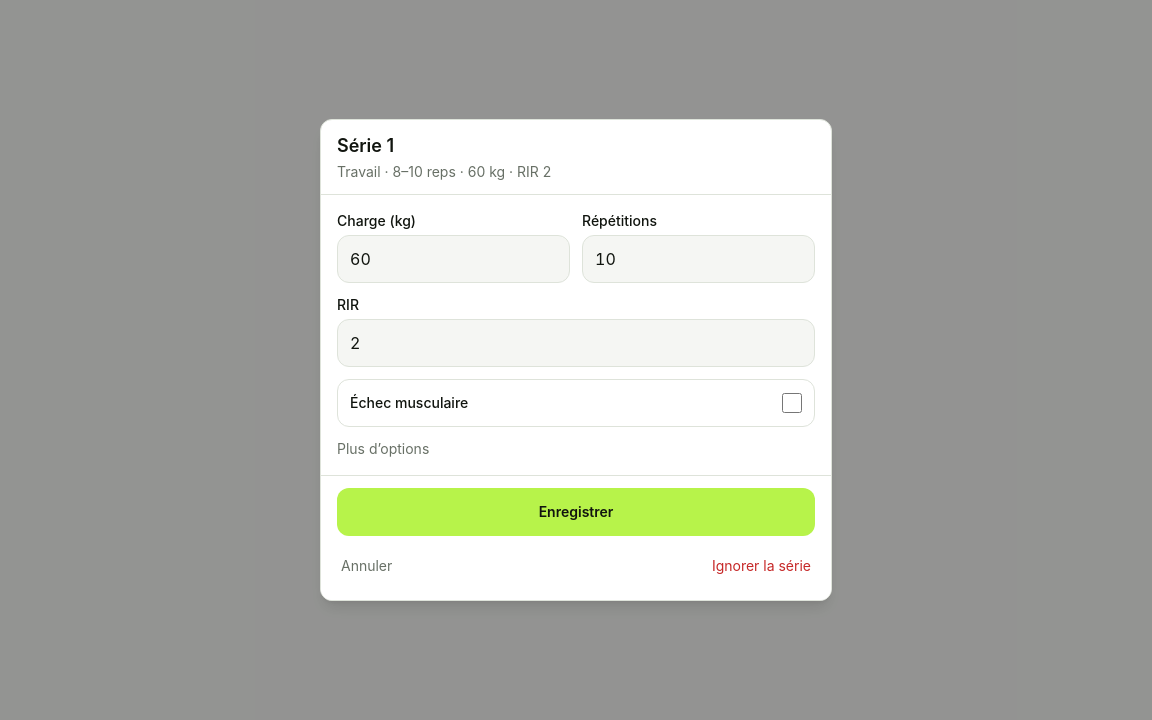
Scenario: WorkoutSetFormDialog › conserve les valeurs après une erreur API
Replace the text in the number field labelled "Répétitions" with "7" at point(698, 259), box [582,235,815,283]
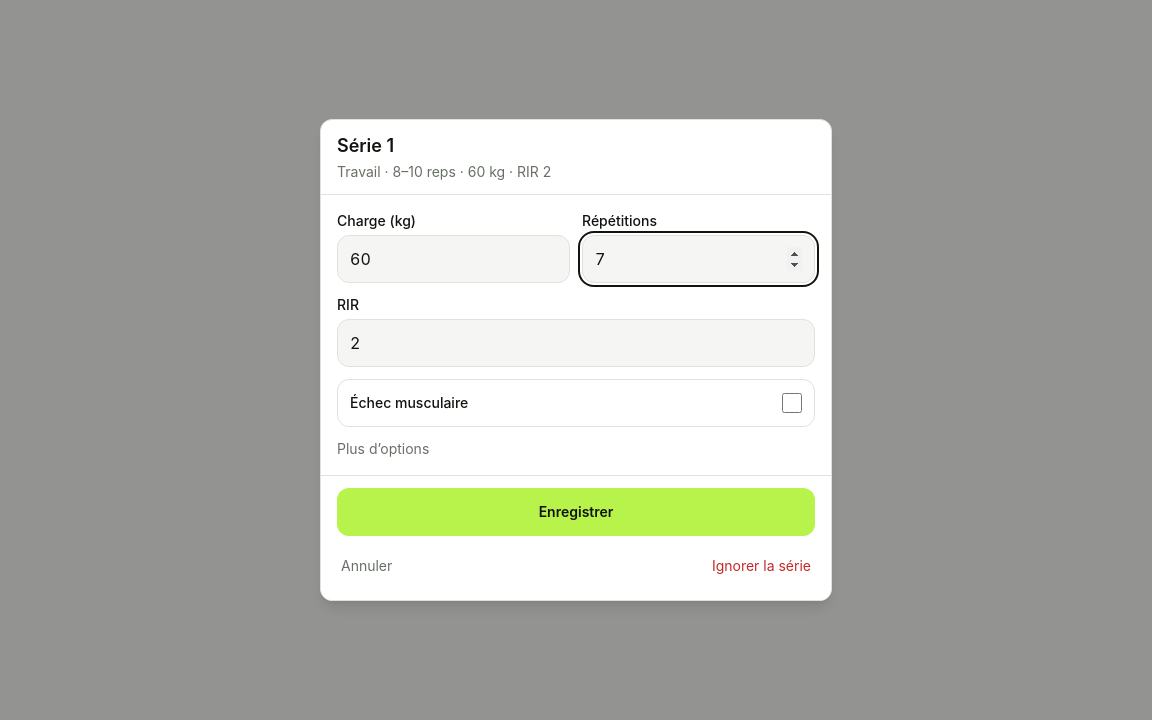
Click the button "Enregistrer".
click(576, 512)  # box [337,488,815,536]
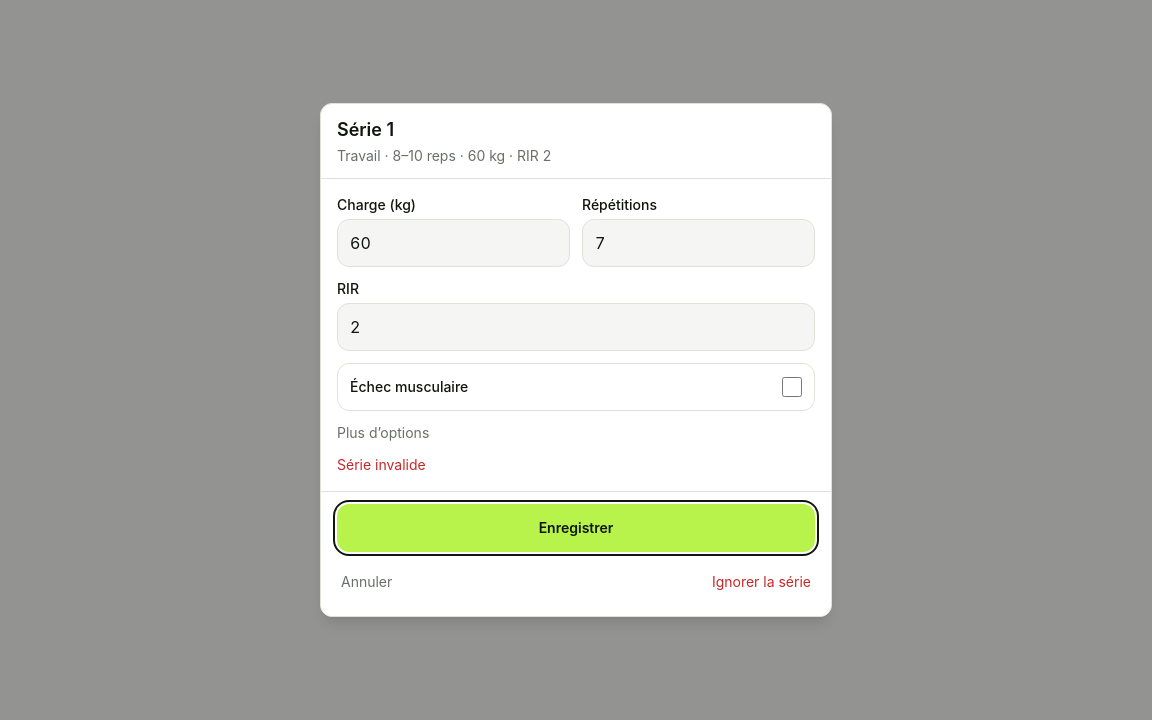
Check: the dialog is shown, box [320,103,832,617]
Check: the message "Série invalide" is shown, box [337,456,426,473]
